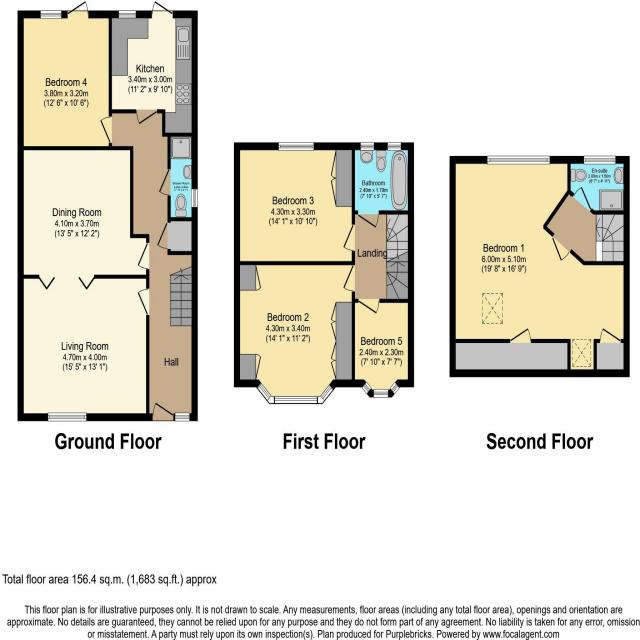DOOR: (551, 234, 572, 262), (572, 185, 592, 212), (65, 0, 90, 19), (151, 402, 175, 420), (134, 109, 158, 126), (136, 287, 150, 316), (99, 113, 112, 144), (151, 0, 173, 18), (357, 298, 380, 315), (158, 167, 171, 197), (137, 241, 150, 270), (509, 327, 532, 343), (342, 265, 355, 293), (599, 327, 621, 343), (343, 224, 355, 252)
ROOM: (450, 155, 630, 377), (17, 146, 150, 421), (234, 260, 355, 405), (234, 142, 355, 266), (18, 0, 113, 151), (109, 0, 198, 137), (352, 299, 414, 398)
WINDOW: (256, 381, 334, 404), (486, 155, 551, 165), (46, 412, 87, 422), (277, 142, 315, 152), (583, 155, 616, 164), (39, 10, 62, 20), (117, 10, 137, 19), (389, 380, 400, 396), (174, 412, 191, 422), (371, 389, 389, 398), (191, 187, 198, 209), (361, 380, 372, 394), (359, 142, 374, 152), (386, 142, 401, 152)
